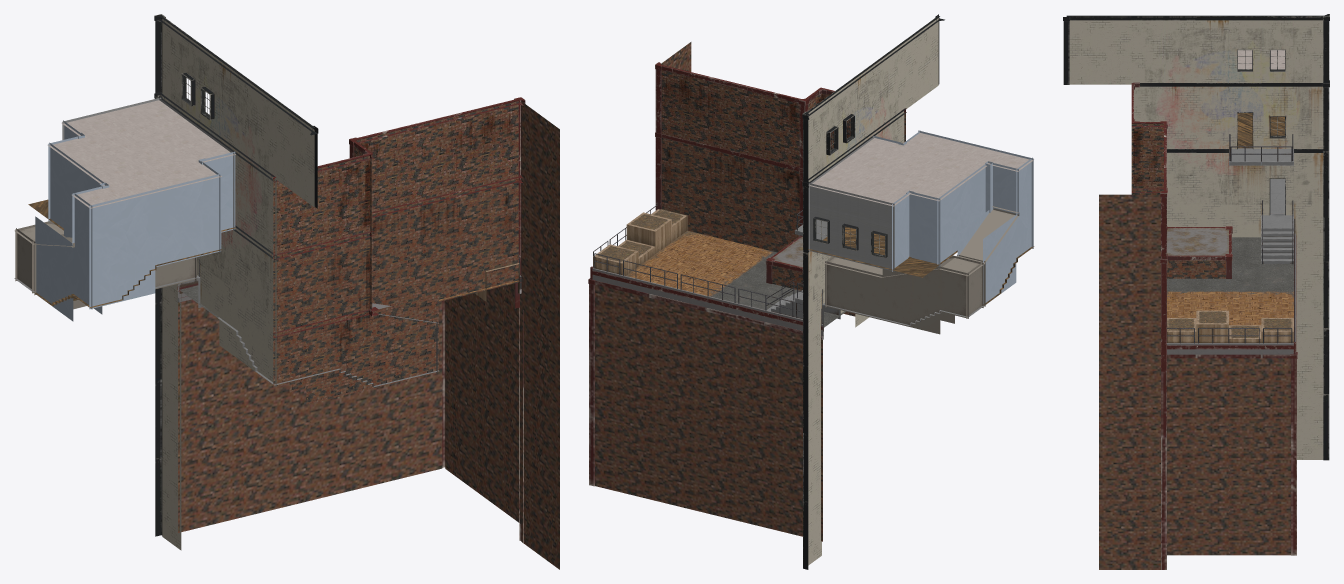
The picture shows the model from 3 angles, left to right: view 1: azimuth 30°, elevation 25°; view 2: azimuth 150°, elevation 25°; view 3: azimuth 270°, elevation 25°; orthographic projection. The views are drawn at different scales.
Parts seen in each view (by area): view 1: rooftopGarden1_set2, rooftopGarden1_set1; view 2: rooftopGarden1_set2, rooftopGarden1_set1; view 3: rooftopGarden1_set2, rooftopGarden1_set1.
Boxes of the visible parts, x1,y1,x2,y2 form: rooftopGarden1_set2: (154, 92, 559, 569); rooftopGarden1_set1: (14, 14, 318, 392); rooftopGarden1_set2: (588, 42, 906, 569); rooftopGarden1_set1: (742, 14, 1034, 335); rooftopGarden1_set2: (1099, 80, 1329, 569); rooftopGarden1_set1: (1063, 14, 1329, 291).
Size of the model in its own units: 26.22 by 30.14 by 16.44.
2 materials, 2 textured.
